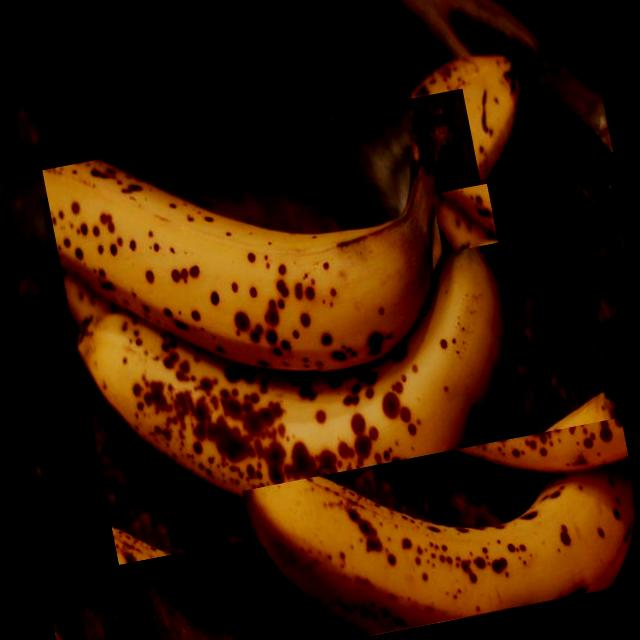Banana: (42, 89, 530, 514), (242, 417, 640, 640)
